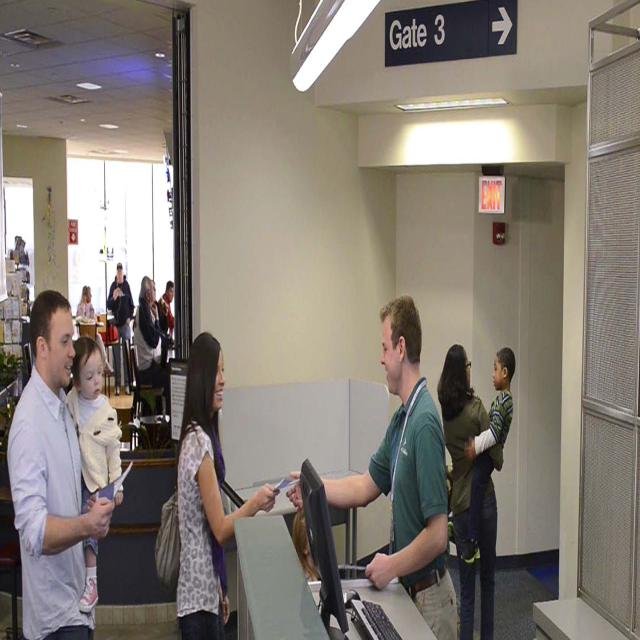body: (286, 292, 460, 640), (152, 330, 282, 639), (7, 290, 116, 640), (436, 342, 504, 640), (68, 334, 124, 614), (439, 346, 505, 549), (133, 263, 175, 419), (107, 260, 135, 396), (75, 286, 114, 374)
